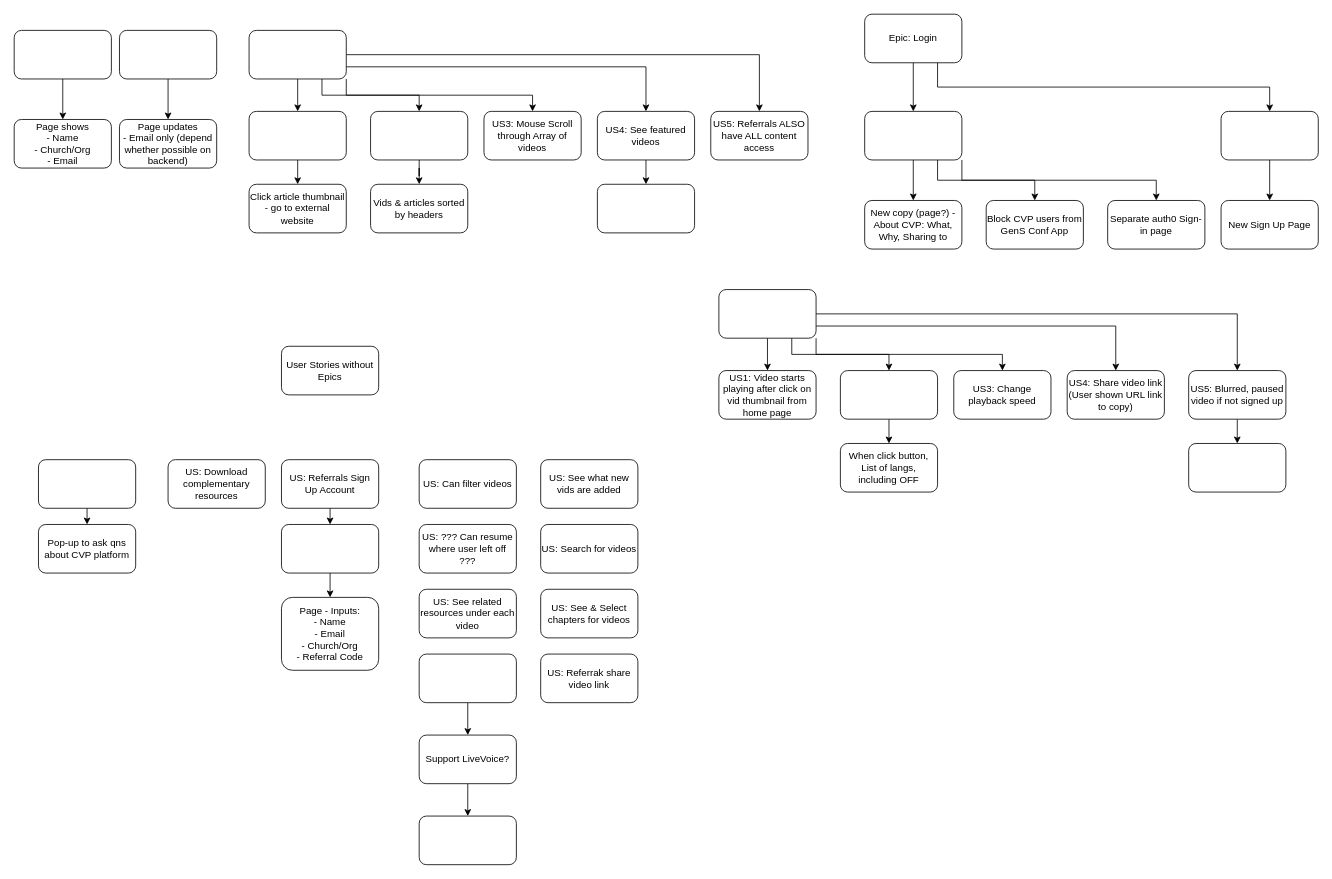
Image size: 1332x879. Some labels were removed from this diagram. Each missing label, with the centre of its shape:
Click "Sign up for an account" button: (330,548)
Epic: Home Page: (297,54)
Epic: Video Page: (767,313)
Login/Sign in prompt appears in front of blurred video: (1237,467)
Rotates between 5 thumbnails (like Netflix): (646,208)
See Profile (thru click profile button): (62,54)
Separate button?: (467,840)
Update Profile (thru Update profile button): (168,54)
US1: Array of Articles on main page: (297,135)
US1: Delegate Login: Correct email + correct OTP via email: (913,135)
US2: Array of Vids & Articles on main page: (419,135)
US2: Choose closed captions: (889,394)
US2: Referrals Sign Up: (1269,135)
US: Choose Audio Track for video: (467,678)
US: Rate experience on CVP platform: (87,483)
